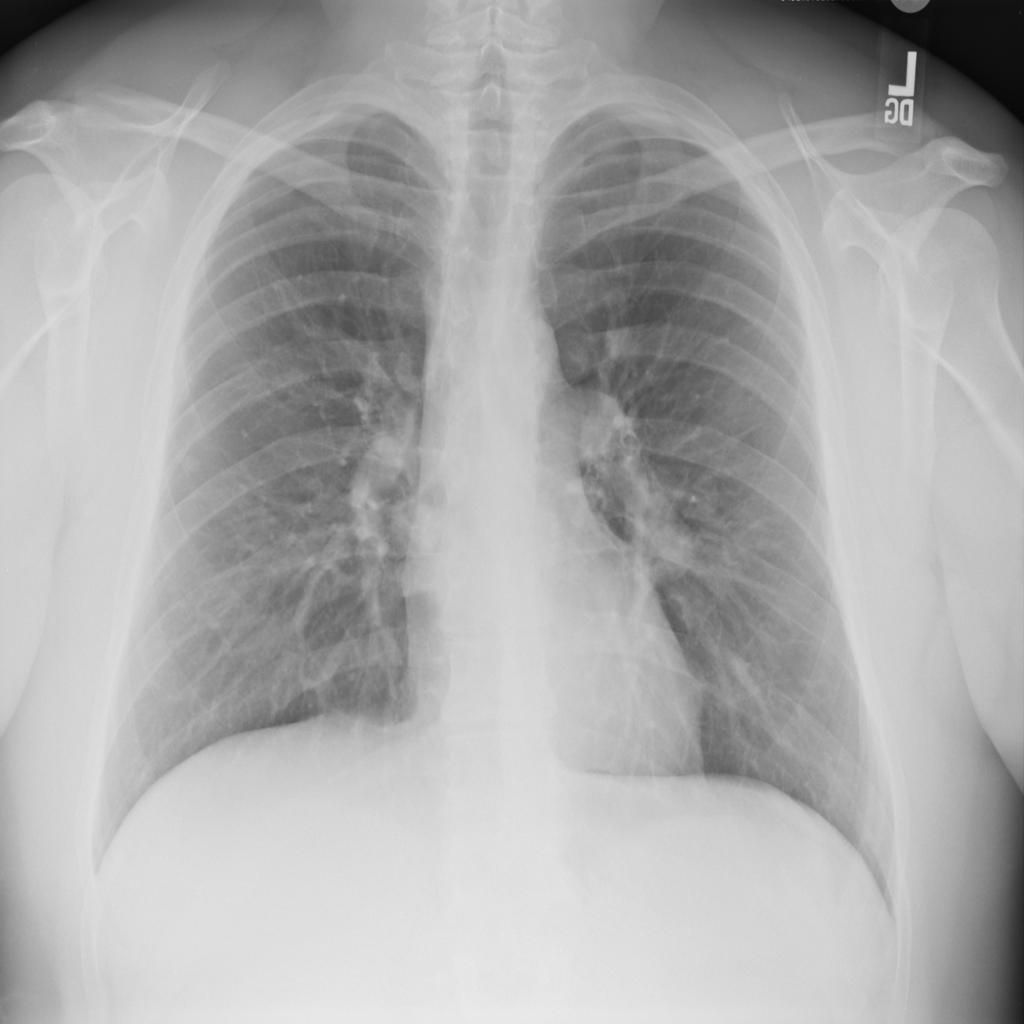nodule: (628, 504, 702, 589), (671, 461, 735, 535), (166, 437, 215, 487)
